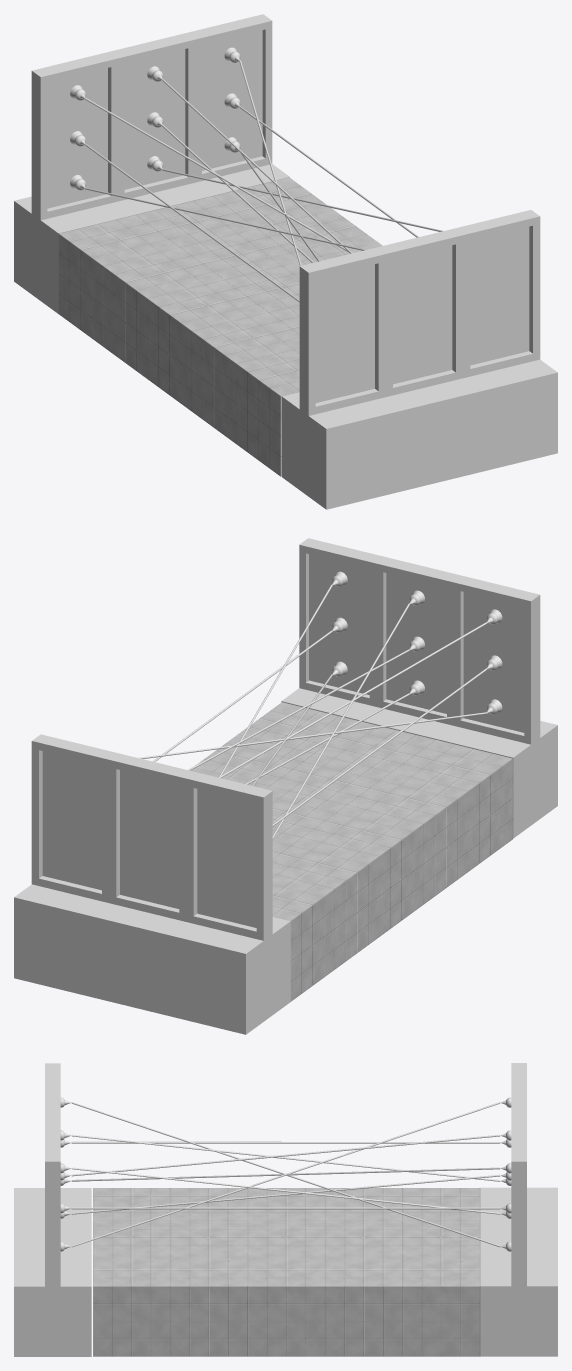
File: DangerLasers.fbx
The picture shows the model from 3 angles, top to bottom: view 1: azimuth 30°, elevation 25°; view 2: azimuth 150°, elevation 25°; view 3: azimuth 270°, elevation 25°; orthographic projection. The views are drawn at different scales.
Visible parts, largest first — view 1: insidewall_lowpoly005, insidewall_lowpoly, insidewall_lowpoly003, insidewall_lowpoly004, Box264, insidewall_lowpoly001, insidewall_lowpoly002, Box263, Box262, Floor002, Floor, Floor001 (+15 smaller); view 2: insidewall_lowpoly, insidewall_lowpoly005, insidewall_lowpoly001, insidewall_lowpoly002, Box240, insidewall_lowpoly003, insidewall_lowpoly004, Box261, Box260, Floor002, Floor003, Floor004 (+15 smaller); view 3: Floor010, Floor011, Floor013, Floor012, Floor014, Box261, Box262, Floor006, Floor007, Floor008, insidewall_lowpoly002, Floor005 (+24 smaller).
Part boxes in pixels (bbox=[...]): insidewall_lowpoly005: bbox=[299, 247, 385, 415]; insidewall_lowpoly: bbox=[31, 52, 117, 220]; insidewall_lowpoly003: bbox=[454, 210, 540, 378]; insidewall_lowpoly004: bbox=[377, 228, 462, 396]; Box264: bbox=[282, 392, 403, 509]; insidewall_lowpoly001: bbox=[109, 33, 195, 201]; insidewall_lowpoly002: bbox=[186, 14, 272, 182]; Box263: bbox=[386, 378, 480, 490]; Box262: bbox=[463, 359, 557, 471]; Floor002: bbox=[147, 280, 268, 411]; Floor: bbox=[58, 215, 179, 346]; Floor001: bbox=[103, 247, 223, 378]; insidewall_lowpoly: bbox=[186, 772, 272, 940]; insidewall_lowpoly005: bbox=[453, 576, 540, 744]; insidewall_lowpoly001: bbox=[109, 753, 194, 921]; insidewall_lowpoly002: bbox=[31, 734, 117, 902]; Box240: bbox=[168, 917, 290, 1034]; insidewall_lowpoly003: bbox=[299, 538, 384, 706]; insidewall_lowpoly004: bbox=[376, 557, 462, 725]; Box261: bbox=[14, 884, 108, 996]; Box260: bbox=[91, 903, 185, 1015]; Floor002: bbox=[303, 805, 423, 936]; Floor003: bbox=[347, 772, 468, 903]; Floor004: bbox=[391, 740, 512, 871]; Floor010: bbox=[402, 1253, 480, 1356]; Floor011: bbox=[325, 1253, 402, 1356]; Floor013: bbox=[170, 1253, 247, 1356]; Floor012: bbox=[248, 1253, 325, 1356]; Floor014: bbox=[93, 1253, 170, 1356]; Box261: bbox=[480, 1253, 557, 1356]; Box262: bbox=[14, 1253, 91, 1356]; Floor006: bbox=[325, 1221, 402, 1253]; Floor007: bbox=[248, 1221, 325, 1253]; Floor008: bbox=[170, 1221, 247, 1253]; insidewall_lowpoly002: bbox=[511, 1128, 526, 1286]; Floor005: bbox=[402, 1221, 480, 1253].
Bounding box in the file's own units: 119 × 109 × 277.
1 material, 1 textured.
